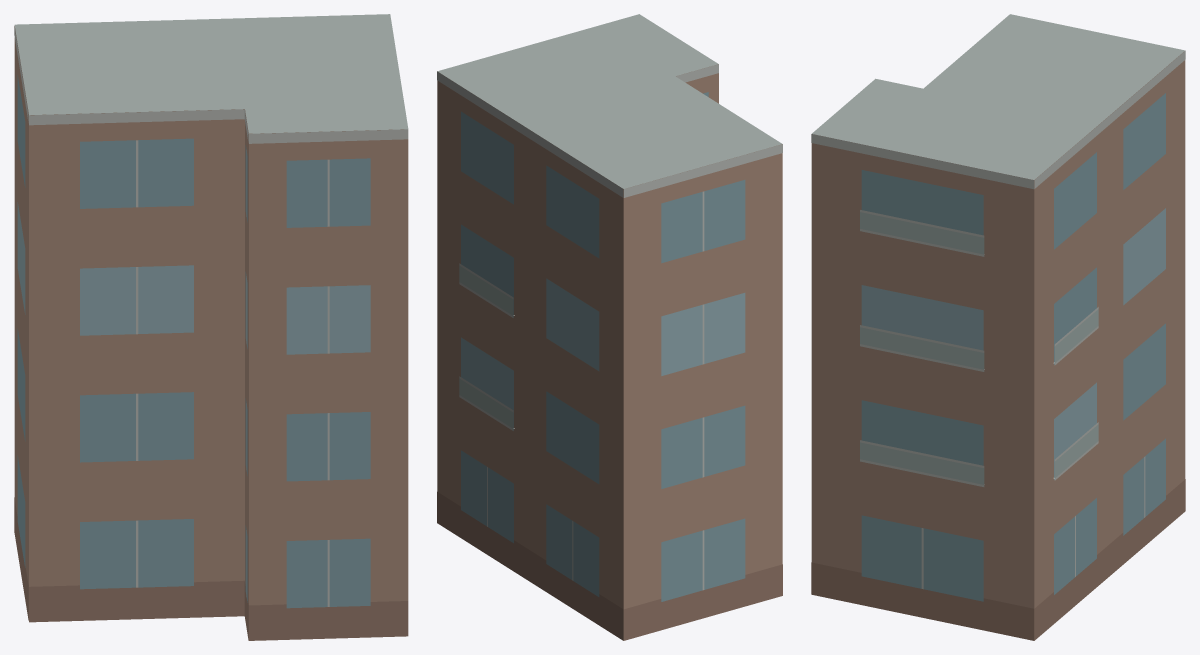
File: residential-67c16fa5-5700-4656-aba5-85fbb1e4ccf7.glb
3 views of the same model, side by side, from view 1: azimuth 30°, elevation 25°; view 2: azimuth 150°, elevation 25°; view 3: azimuth 270°, elevation 25° (orthographic). The views are drawn at different scales.
Parts seen in each view (by area): view 1: residential-67c16fa5-5700-4656-aba5-85fbb1e4ccf7.tmp; view 2: residential-67c16fa5-5700-4656-aba5-85fbb1e4ccf7.tmp; view 3: residential-67c16fa5-5700-4656-aba5-85fbb1e4ccf7.tmp.
Boxes of the visible parts, bbox=[...] form: residential-67c16fa5-5700-4656-aba5-85fbb1e4ccf7.tmp: bbox=[14, 14, 408, 640]; residential-67c16fa5-5700-4656-aba5-85fbb1e4ccf7.tmp: bbox=[437, 14, 782, 640]; residential-67c16fa5-5700-4656-aba5-85fbb1e4ccf7.tmp: bbox=[811, 14, 1185, 640].
Bounding box in the file's own units: 9.44 × 12.2 × 8.98.
